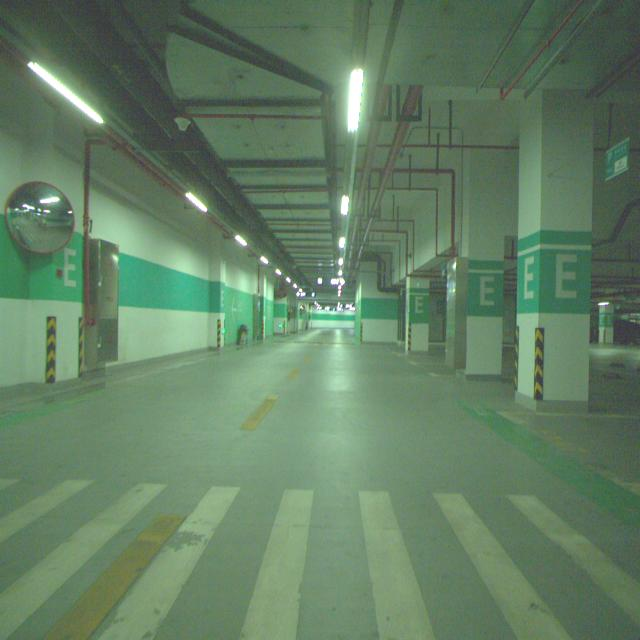pillar: (514, 91, 592, 409)
wall: (29, 147, 84, 382), (208, 255, 226, 348)
